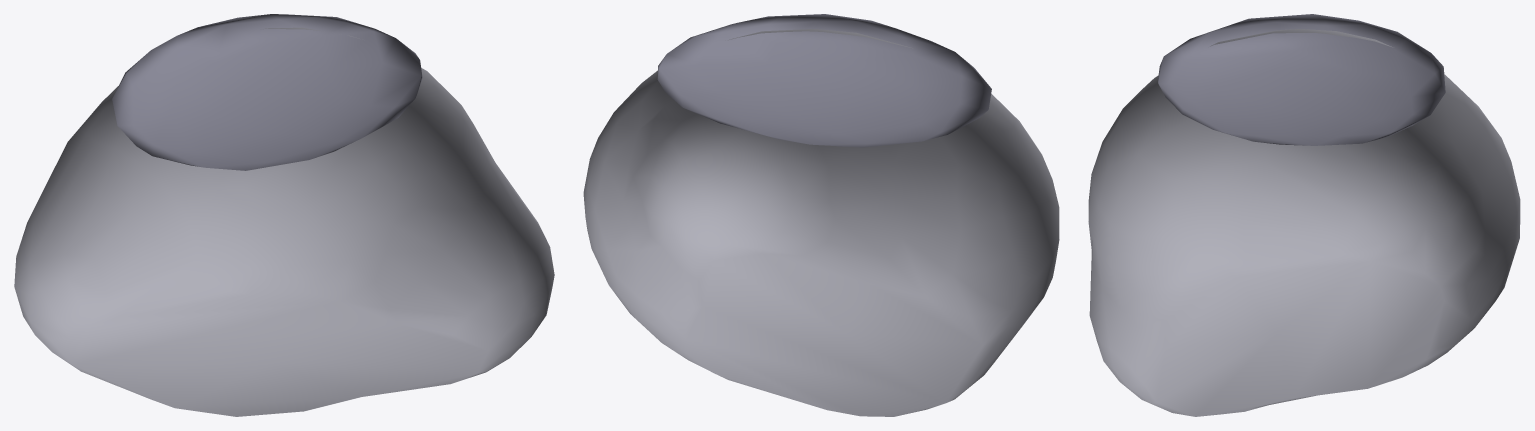
File: lm_moon_rock.glb
3 renders of one model, left to right at view 1: azimuth 30°, elevation 25°; view 2: azimuth 150°, elevation 25°; view 3: azimuth 270°, elevation 25°, orthographic. The views are drawn at different scales.
Visible parts, largest first — view 1: body; view 2: body; view 3: body.
Boxes of the visible parts, x1,y1,x2,y2 form: body: [14, 14, 554, 416]; body: [583, 14, 1059, 416]; body: [1088, 14, 1520, 416].
Bounding box in the file's own units: 1.94 × 1.31 × 1.72.
1 material, 1 textured.
